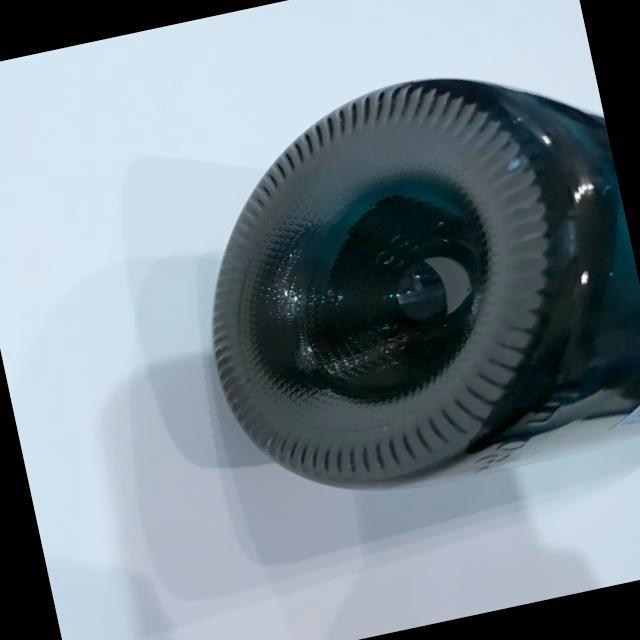glass: (154, 33, 640, 543)
